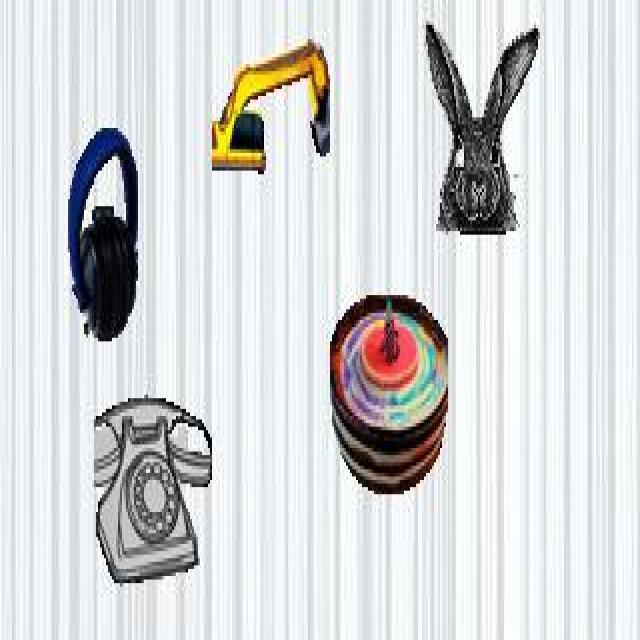Other Objects: (94, 395, 212, 585), (67, 125, 139, 343)
